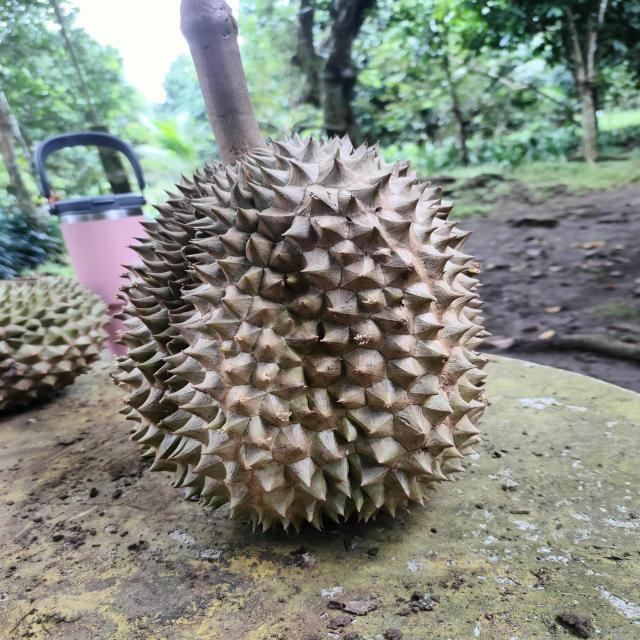mature: (117, 136, 487, 529)
